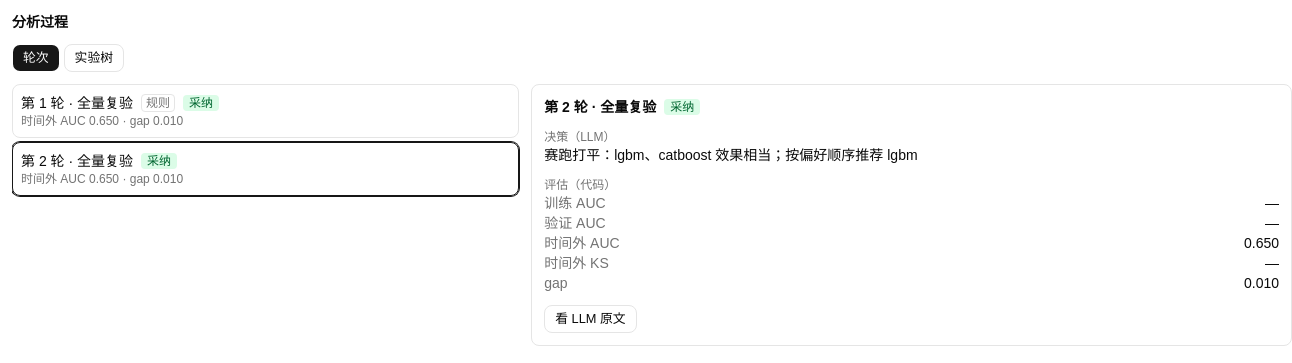
Test: 开发者视图：代码按规则做的决策标出「规则」，不显示成 LLM 的决策
The image size is (1292, 363).
Expected: the text "规则" is shown, x1=141 y1=94 x2=175 y2=112
What coordinates should you click on to do the following:
click the text "第 1 轮 · 全量复验 规则 采纳"
I would click on:
 (120, 103)
Its box is x1=21 y1=94 x2=219 y2=112.
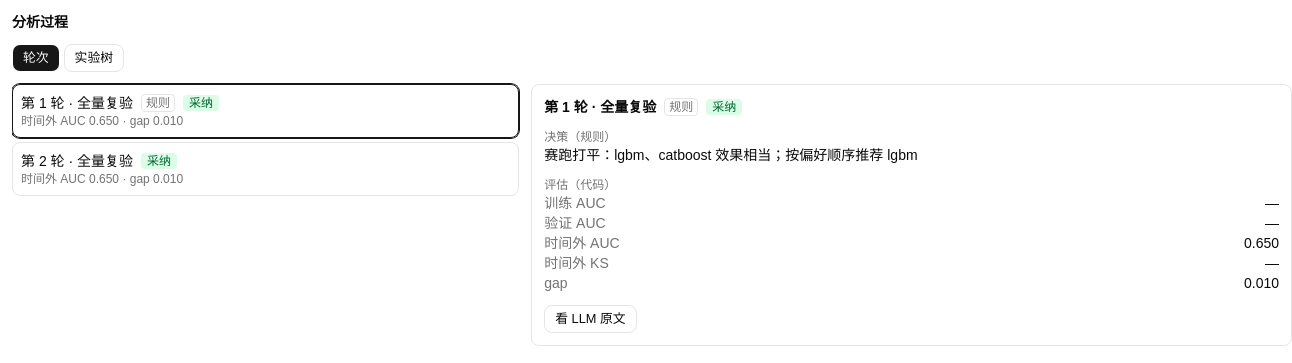
Now the heading "决策（规则）" is shown, box x1=544 y1=130 x2=616 y2=144
What coordinates should you click on to do the following:
click the text "第 2 轮 · 全量复验 采纳"
I would click on:
 (99, 161)
Its box is x1=21 y1=153 x2=177 y2=169.
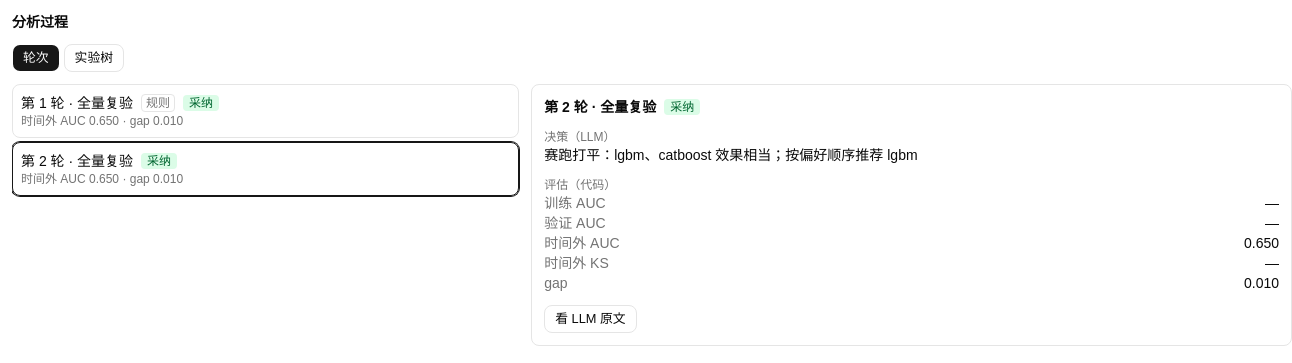
Now the heading "决策（LLM）" is shown, box x1=544 y1=130 x2=616 y2=144
